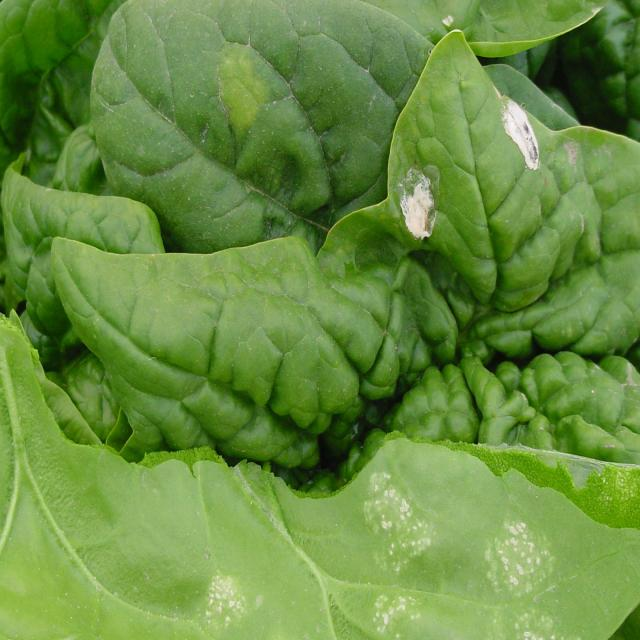rotten spinach: (301, 18, 640, 370), (334, 437, 592, 640)
